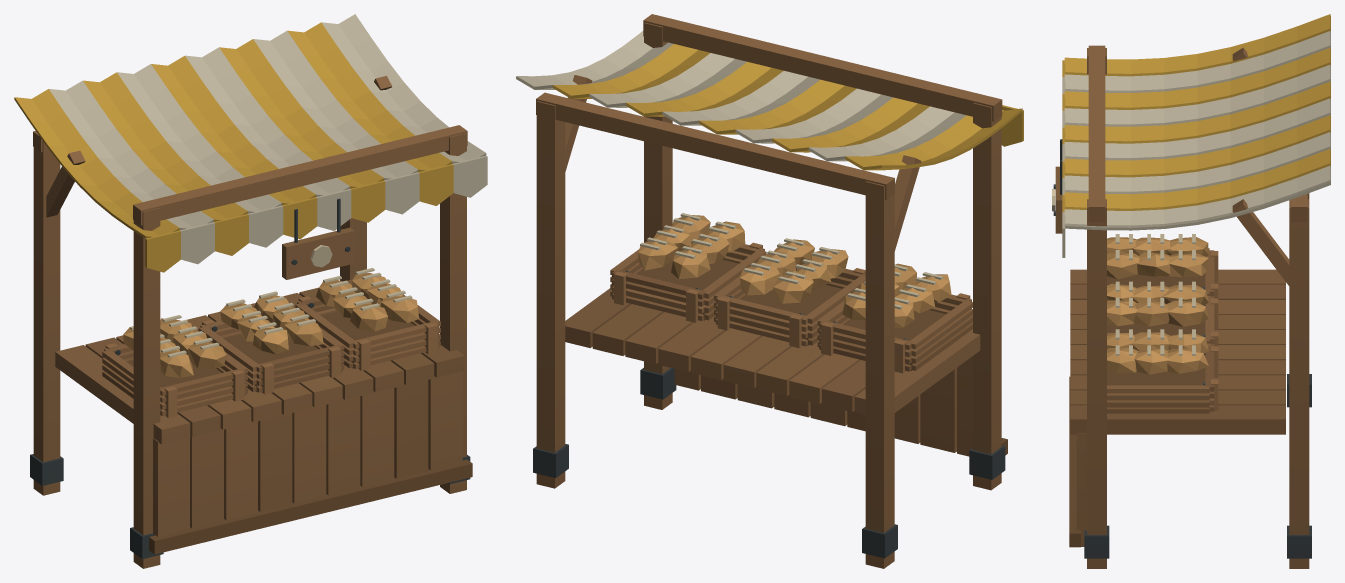
The model's file is town_stall_bread.glb.
The picture shows the model from 3 angles, left to right: view 1: azimuth 30°, elevation 25°; view 2: azimuth 150°, elevation 25°; view 3: azimuth 270°, elevation 25°; orthographic projection. The views are drawn at different scales.
Parts seen in each view (by area): view 1: town_stall_bread; view 2: town_stall_bread; view 3: town_stall_bread.
Boxes of the visible parts, x1,y1,x2,y2 form: town_stall_bread: [14, 14, 487, 568]; town_stall_bread: [516, 14, 1023, 568]; town_stall_bread: [1052, 14, 1330, 568].
Bounding box in the file's own units: 2.4 × 2.6 × 1.68.
